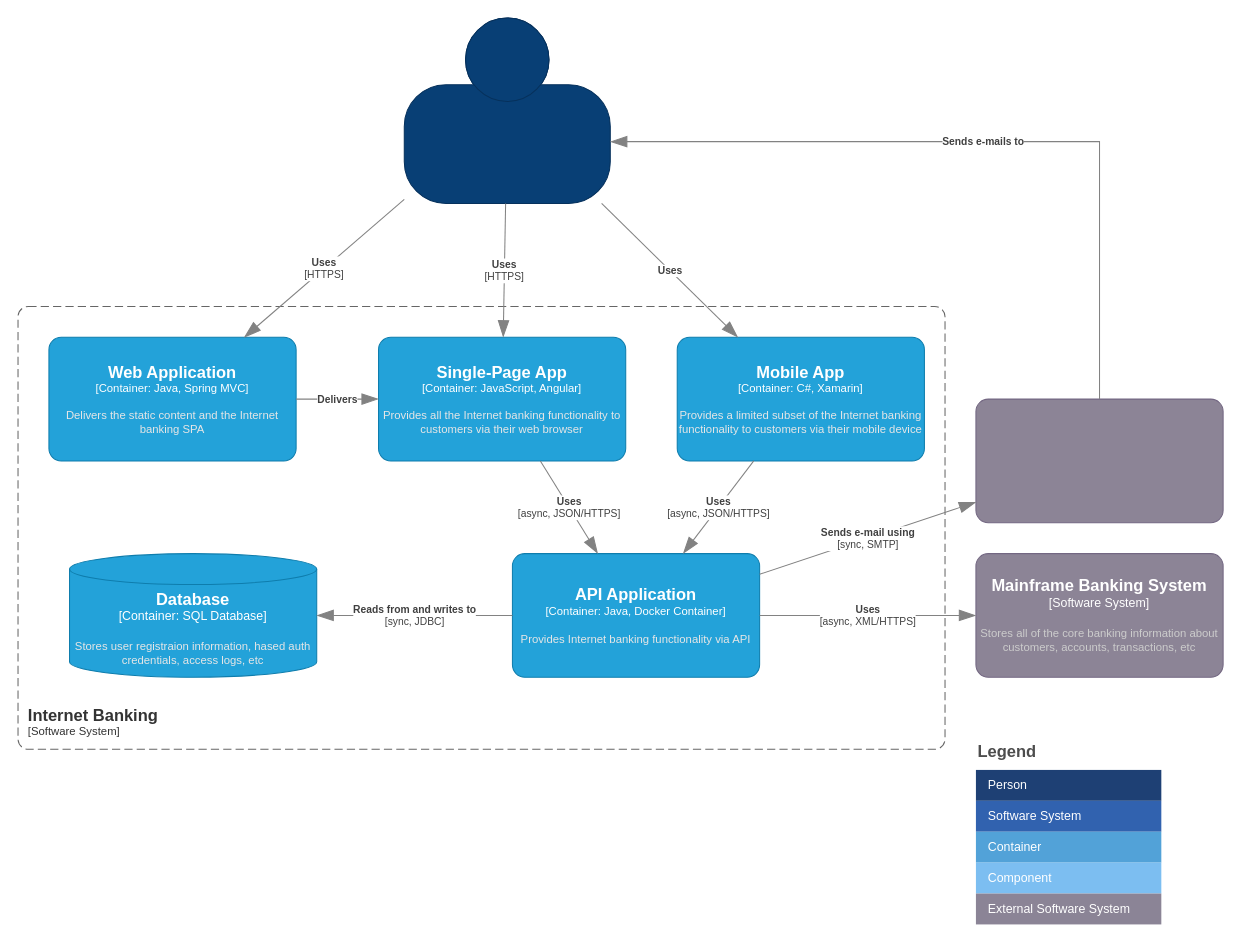
Image size: 1241x942. Some labels were removed from this diagram. Here are the shapes that lost their labels. From the top down, the centre of each, then its label:
the point at 506,110: Customer [Person] A customer of the bank, with personal bank accounts
the point at 1099,460: E-mail system [Software System] The internal Microsoft Exchange e-mail system
